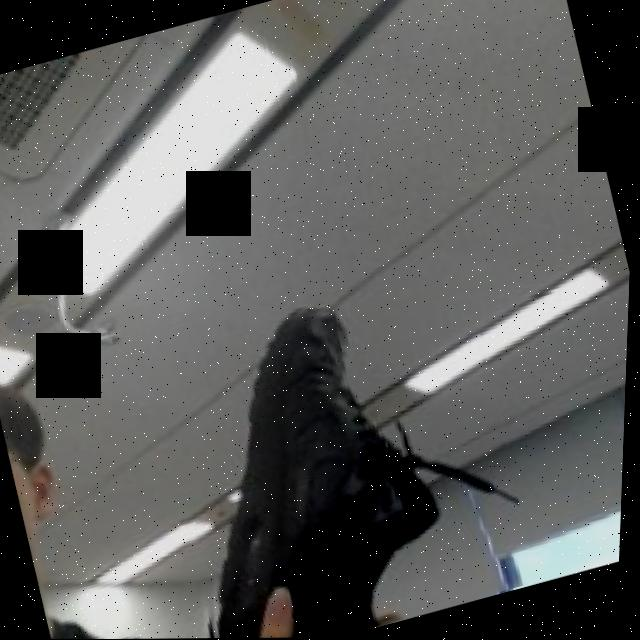shoe: (128, 244, 552, 639)
